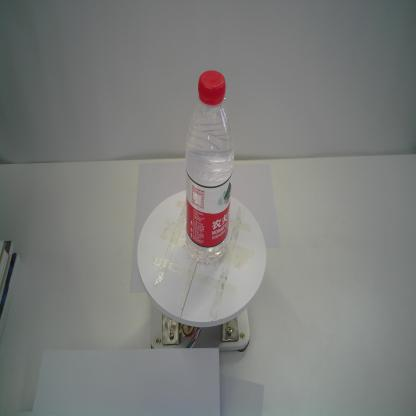Drink: (184, 69, 235, 265)
